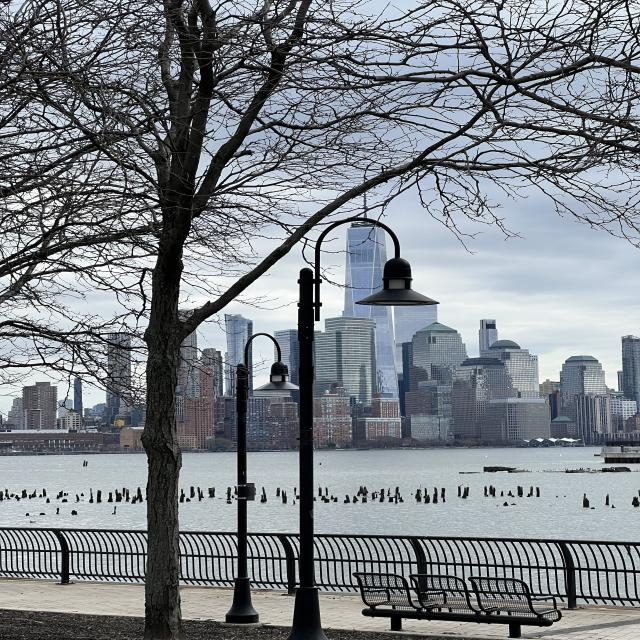WTC: (343, 176, 387, 322)
